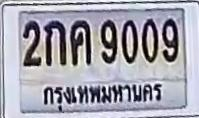0: (141, 18, 157, 62), (121, 20, 137, 63)
2: (22, 20, 40, 65)
9: (100, 19, 116, 63), (162, 18, 177, 61)
A01: (44, 20, 65, 65)
A04: (70, 20, 90, 64)
BKK: (39, 78, 163, 111)
